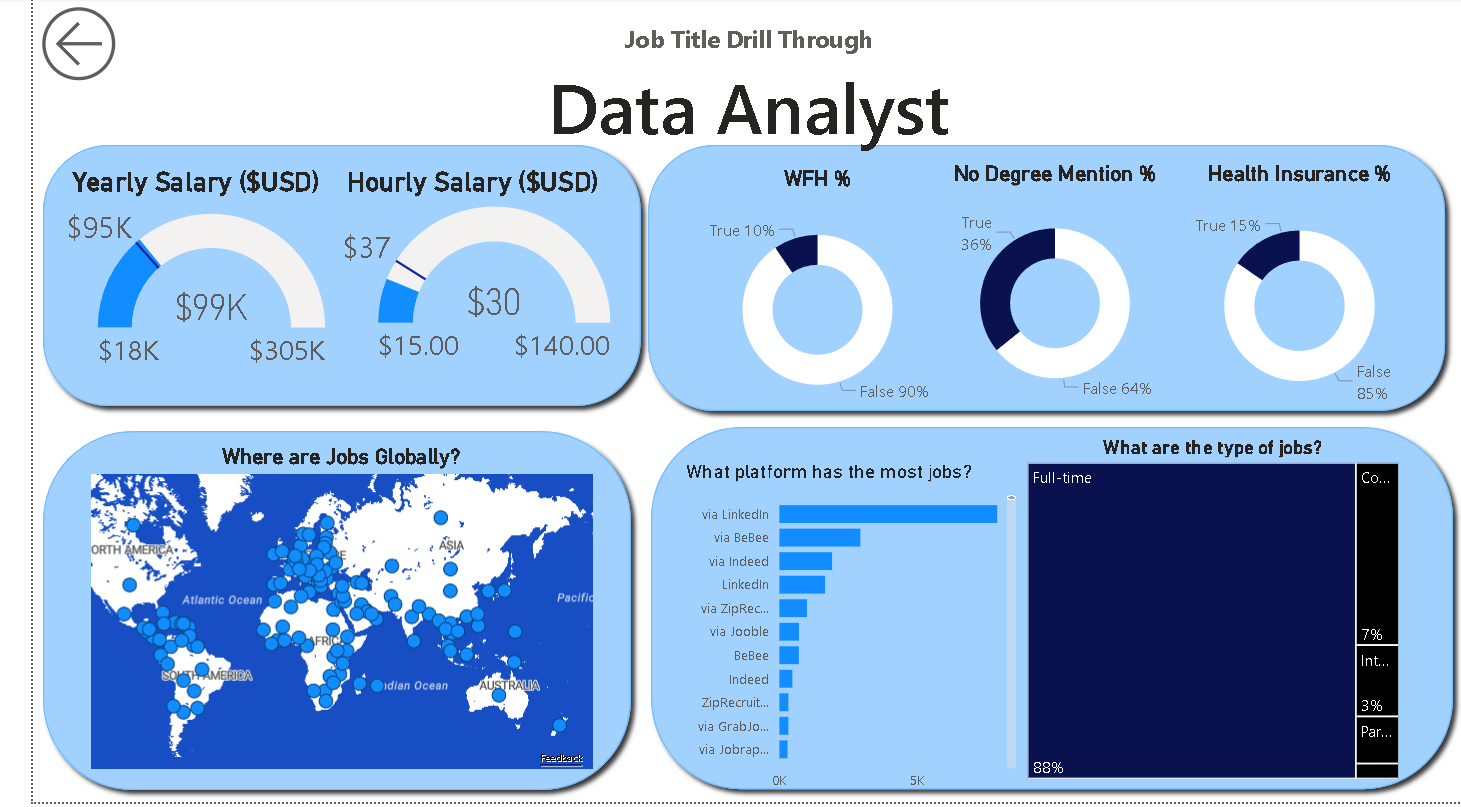

What the dashboard file says about the page in this screenshot:
{"tool":"powerbi","page":{"name":"Job Title Drill Through ","canvas":[1280,720],"ordinal":1},"visuals":[{"type":"group","id":"g1","title":"Background ","box":[0,122.9,1280.5,595.7],"z":0},{"type":"cardVisual","fields":{"Data":["Min(job_postings_flat.job_title_short)1"]},"box":[250.7,0,779.1,156.7],"z":1000},{"type":"actionButton","box":[0,0,111.2,82],"z":2000},{"type":"gauge","title":"Yearly Salary ($USD)","fields":{"Y":["Median(job_postings_flat.salary_year_avg)"],"MinValue":["Min(job_postings_flat.salary_year_avg)1"],"MaxValue":["Max(job_postings_flat.salary_year_avg)2"],"TargetValue":["Avg(job_postings_flat.salary_year_avg)3"]},"box":[0,152.2,310.2,215.1],"z":3000},{"type":"gauge","title":"Hourly Salary ($USD)","fields":{"Y":["Median(job_postings_flat.salary_hour_avg)"],"MinValue":["Min(job_postings_flat.salary_hour_avg)1"],"MaxValue":["Max(job_postings_flat.salary_hour_avg)2"],"TargetValue":["Avg(job_postings_flat.salary_hour_avg)3"]},"box":[264.9,150.7,276.6,215.1],"z":4000},{"type":"donutChart","title":"WFH %","fields":{"Category":["job_postings_flat.job_work_from_home"],"Y":["CountNonNull(job_postings_flat.job_work_from_home)"]},"box":[566.9,131.6,250.7,235.5],"z":5000},{"type":"donutChart","title":"Health Insurance %","fields":{"Category":["job_postings_flat.job_health_insurance"],"Y":["CountNonNull(job_postings_flat.job_health_insurance)"]},"box":[1020,130.7,226.6,237.3],"z":6000},{"type":"donutChart","title":"No Degree Mention %","fields":{"Category":["job_postings_flat.job_no_degree_mention"],"Y":["CountNonNull(job_postings_flat.job_no_degree_mention)"]},"box":[797.9,132.5,229.3,232.8],"z":7000},{"type":"azureMap","title":"Where are Jobs Globally?","fields":{"Category":["job_postings_flat.job_country"]},"box":[46.8,399.5,459.5,295.6],"z":8000},{"type":"treemap","title":"What are the type of  jobs?","fields":{"Group":["job_postings_flat.job_schedule_type"],"Values":["CountNonNull(job_postings_flat.job_schedule_type)"]},"box":[885.4,392.2,342.4,311.7],"z":9000},{"type":"clusteredBarChart","title":"What platform has the most jobs?","fields":{"Category":["job_postings_flat.job_via"],"Y":["CountNonNull(job_postings_flat.job_via)"]},"box":[579.5,414.1,305.9,304.4],"z":10000},{"type":"shape","box":[0,379.1,544.4,339.5],"z":13125,"group":"g1"},{"type":"shape","box":[0,123,553.2,251.7],"z":13500,"group":"g1"},{"type":"shape","box":[541.5,122.9,731.7,256.1],"z":14000,"group":"g1"},{"type":"shape","box":[544.4,375.8,736.1,342.4],"z":14500,"group":"g1"}]}

Visuals, with their boxes in screenshot pixels (x1, y1, x2, y2), scaled from the page's 1280x720 canvas onto the 1461x807 screenshot:
"Background " group: [left=0, top=138, right=1460, bottom=805]
cardVisual - Min(job_postings_flat.job_title_short)1: [left=286, top=0, right=1175, bottom=176]
actionButton: [left=0, top=0, right=127, bottom=92]
"Yearly Salary ($USD)" gauge: [left=0, top=171, right=354, bottom=412]
"Hourly Salary ($USD)" gauge: [left=302, top=169, right=618, bottom=410]
"WFH %" donutChart: [left=647, top=148, right=933, bottom=411]
"Health Insurance %" donutChart: [left=1164, top=146, right=1423, bottom=412]
"No Degree Mention %" donutChart: [left=911, top=149, right=1172, bottom=409]
"Where are Jobs Globally?" azureMap: [left=53, top=448, right=578, bottom=779]
"What are the type of  jobs?" treemap: [left=1011, top=440, right=1401, bottom=789]
"What platform has the most jobs?" clusteredBarChart: [left=661, top=464, right=1011, bottom=805]
shape: [left=0, top=425, right=621, bottom=805]
shape: [left=0, top=138, right=631, bottom=420]
shape: [left=618, top=138, right=1453, bottom=425]
shape: [left=621, top=421, right=1460, bottom=805]
